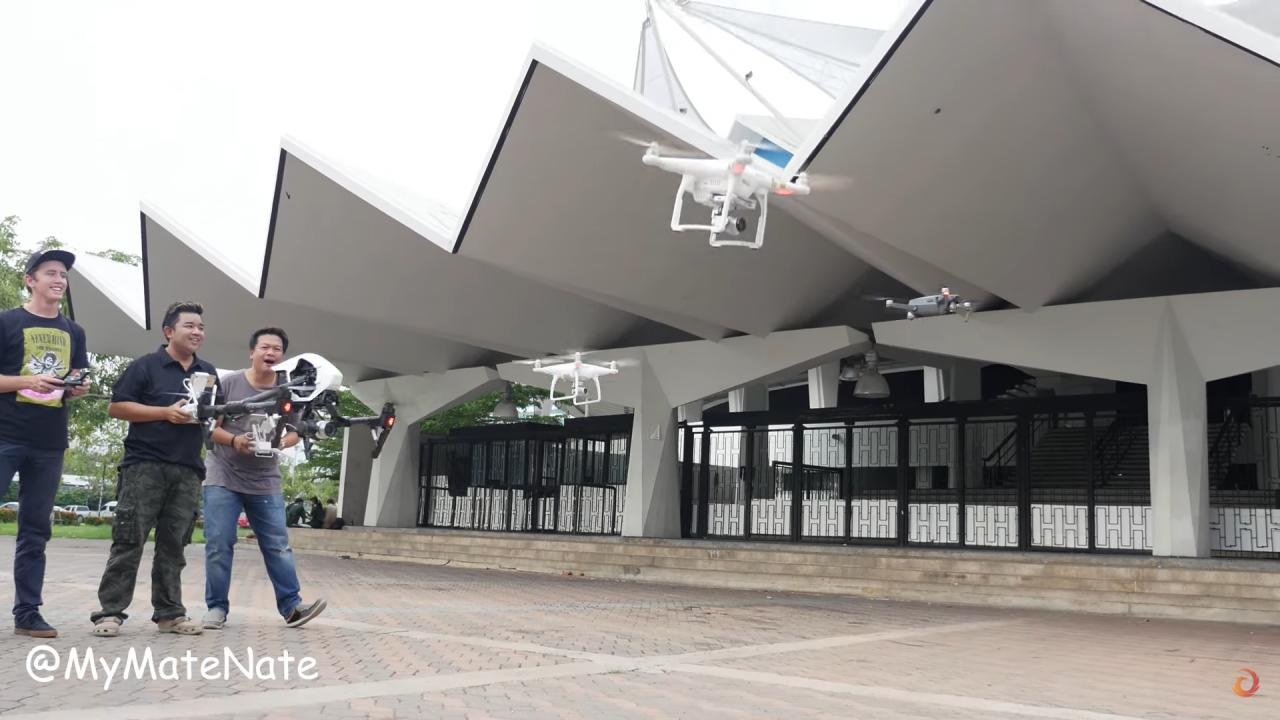Drone: (599, 122, 864, 258), (184, 345, 420, 468), (505, 342, 649, 413), (864, 277, 992, 330)
